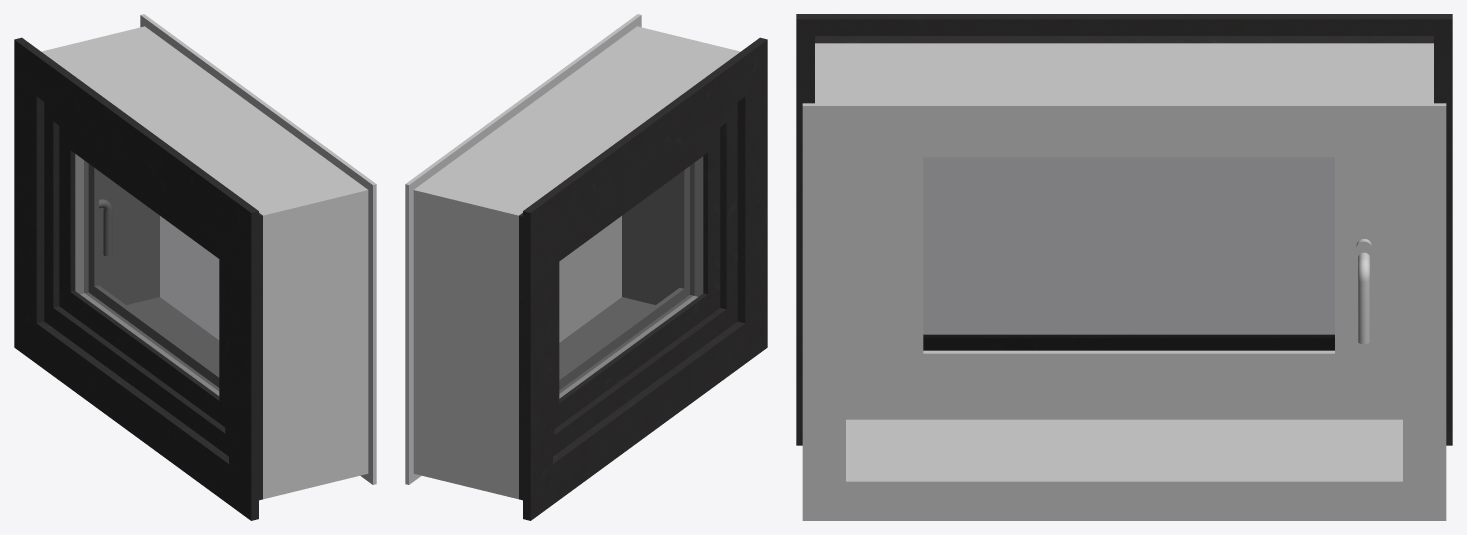
File: Window 10x07.fbx
3 views of the same model, side by side, from view 1: azimuth 30°, elevation 25°; view 2: azimuth 150°, elevation 25°; view 3: azimuth 270°, elevation 25° (orthographic). The views are drawn at different scales.
Parts seen in each view (by area): view 1: Group5, Group4, Group2, Group3, Group1; view 2: Group5, Group4, Group2, Group3; view 3: Group5, Group3, Group2, Group4, Group1.
Part boxes in pixels (x1,y1,x2,y2): Group5: (41,14,376,499); Group4: (14,37,262,520); Group2: (75,154,218,395); Group3: (84,161,218,390); Group1: (99,199,112,256); Group5: (405,14,740,499); Group4: (519,37,767,520); Group2: (559,157,702,397); Group3: (560,164,693,392); Group5: (802,43,1446,520); Group3: (923,157,1334,350); Group2: (924,158,1334,349); Group4: (796,14,1452,445); Group1: (1356,239,1371,344).
Size of the model in its own units: 330 by 760 by 1060.
3 materials, 2 textured.
